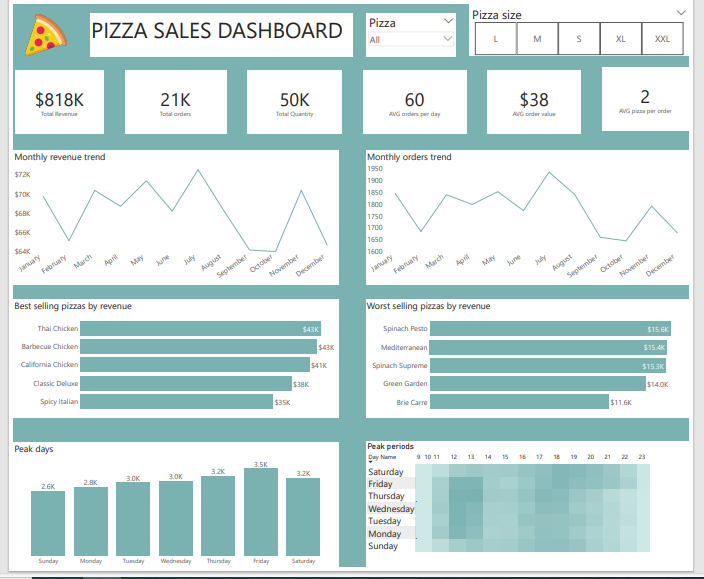

The dashboard page shown, as its layout file describes it:
{"tool":"powerbi","page":{"name":"Page 5","canvas":[3000,2500],"ordinal":4},"visuals":[{"type":"card","fields":{"Values":["_measure.Total Revenue"]},"box":[8.2,293.9,391.8,281.6],"z":0},{"type":"card","fields":{"Values":["_measure.Total Quantity"]},"box":[494.2,293.9,453.1,281.6],"z":1000},{"type":"card","fields":{"Values":["_measure.Total Quantity"]},"box":[1041.4,295.3,418.3,280.5],"z":2000},{"type":"card","fields":{"Values":["_measure.AVG pizza per order"]},"box":[2616.3,281.6,383.7,281.6],"z":3000},{"type":"card","fields":{"Values":["_measure.AVG order value"]},"box":[2105.8,293.9,416.3,281.6],"z":4000},{"type":"card","fields":{"Values":["_measure.AVG orders per day"]},"box":[1553.9,294.3,457.8,282],"z":5000},{"type":"lineChart","title":"Monthly revenue trend","fields":{"Y":["_measure.Total Revenue"],"Category":["Calendar.Month name"]},"box":[0,649,1444.9,600],"z":6000},{"type":"lineChart","title":"Monthly orders trend","fields":{"Y":["_measure.Total orders"],"Category":["Calendar.Month name"]},"box":[1567.3,649,1432.7,600],"z":7000},{"type":"clusteredBarChart","title":"Best selling pizzas by revenue","fields":{"Category":["pizza_types.name"],"Y":["_measure.Total Revenue"]},"box":[0,1310.2,1444.9,526.5],"z":8000},{"type":"clusteredBarChart","title":"Worst selling pizzas by revenue","fields":{"Category":["pizza_types.name"],"Y":["_measure.Total Revenue"]},"box":[1565.4,1312,1434.6,527.2],"z":9000},{"type":"columnChart","title":"Peak days","fields":{"Category":["Calendar.Day Name"],"Y":["_measure.Total orders"]},"box":[0,1945.5,1446.9,555.9],"z":10000},{"type":"pivotTable","title":"Peak periods","fields":{"Rows":["Calendar.Day Name"],"Columns":["orders.Hour"],"Values":["_measure.Total orders"]},"box":[1567.5,1944.1,1432.5,556.6],"z":11000},{"type":"textbox","box":[341.2,39.4,1166.3,191.9],"z":12000},{"type":"slicer","fields":{"Values":["pizza_types.name"]},"box":[1568.2,39.4,398.6,191.9],"z":13000},{"type":"slicer","fields":{"Values":["pizza.size"]},"box":[2025.6,0,974.4,231.3],"z":14000},{"type":"image","box":[9.8,39.4,270.7,191.9],"z":15000}]}

Visuals, with their boxes in screenshot pixels (x1, y1, x2, y2), scaled from the page's 3000x2500 canvas onto the 704x579 screenshot:
card - _measure.Total Revenue: [2,68,94,133]
card - _measure.Total Quantity: [116,68,222,133]
card - _measure.Total Quantity: [244,68,343,133]
card - _measure.AVG pizza per order: [614,65,703,130]
card - _measure.AVG order value: [494,68,592,133]
card - _measure.AVG orders per day: [365,68,472,133]
"Monthly revenue trend" lineChart: [0,150,339,289]
"Monthly orders trend" lineChart: [368,150,703,289]
"Best selling pizzas by revenue" clusteredBarChart: [0,303,339,425]
"Worst selling pizzas by revenue" clusteredBarChart: [367,304,703,426]
"Peak days" columnChart: [0,451,340,578]
"Peak periods" pivotTable: [368,450,703,578]
textbox: [80,9,354,54]
slicer - pizza_types.name: [368,9,462,54]
slicer - pizza.size: [475,0,703,54]
image: [2,9,66,54]
